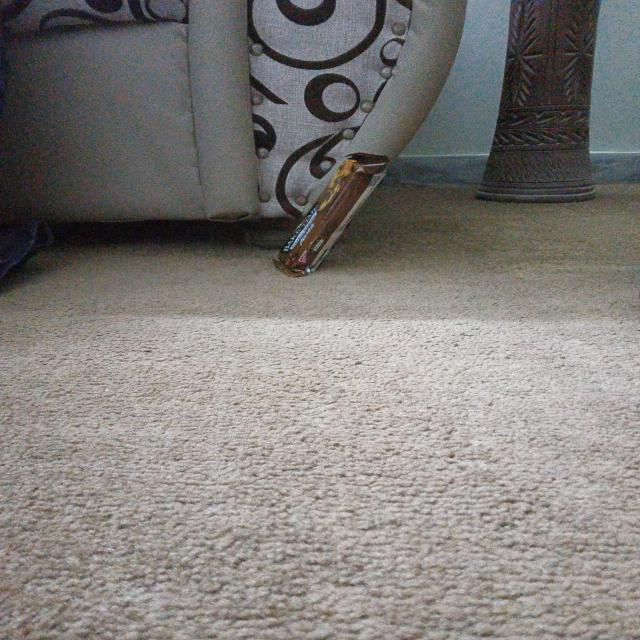Plastic: (273, 150, 394, 276)
